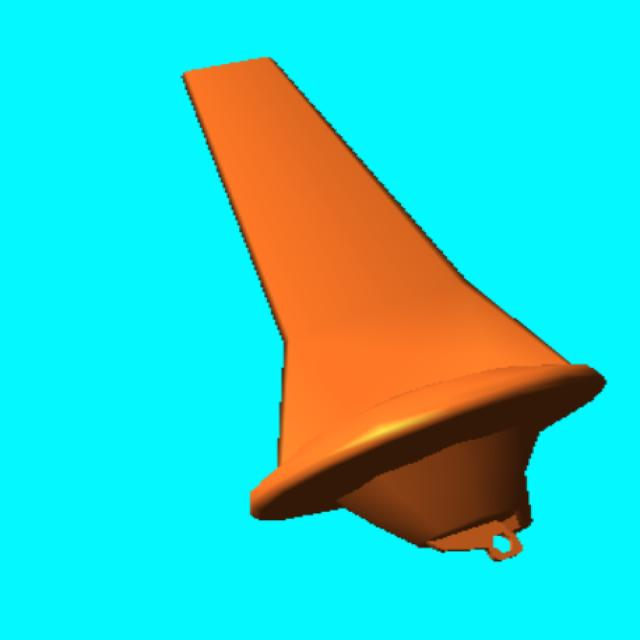OrangeBuoy: (185, 59, 604, 559)
